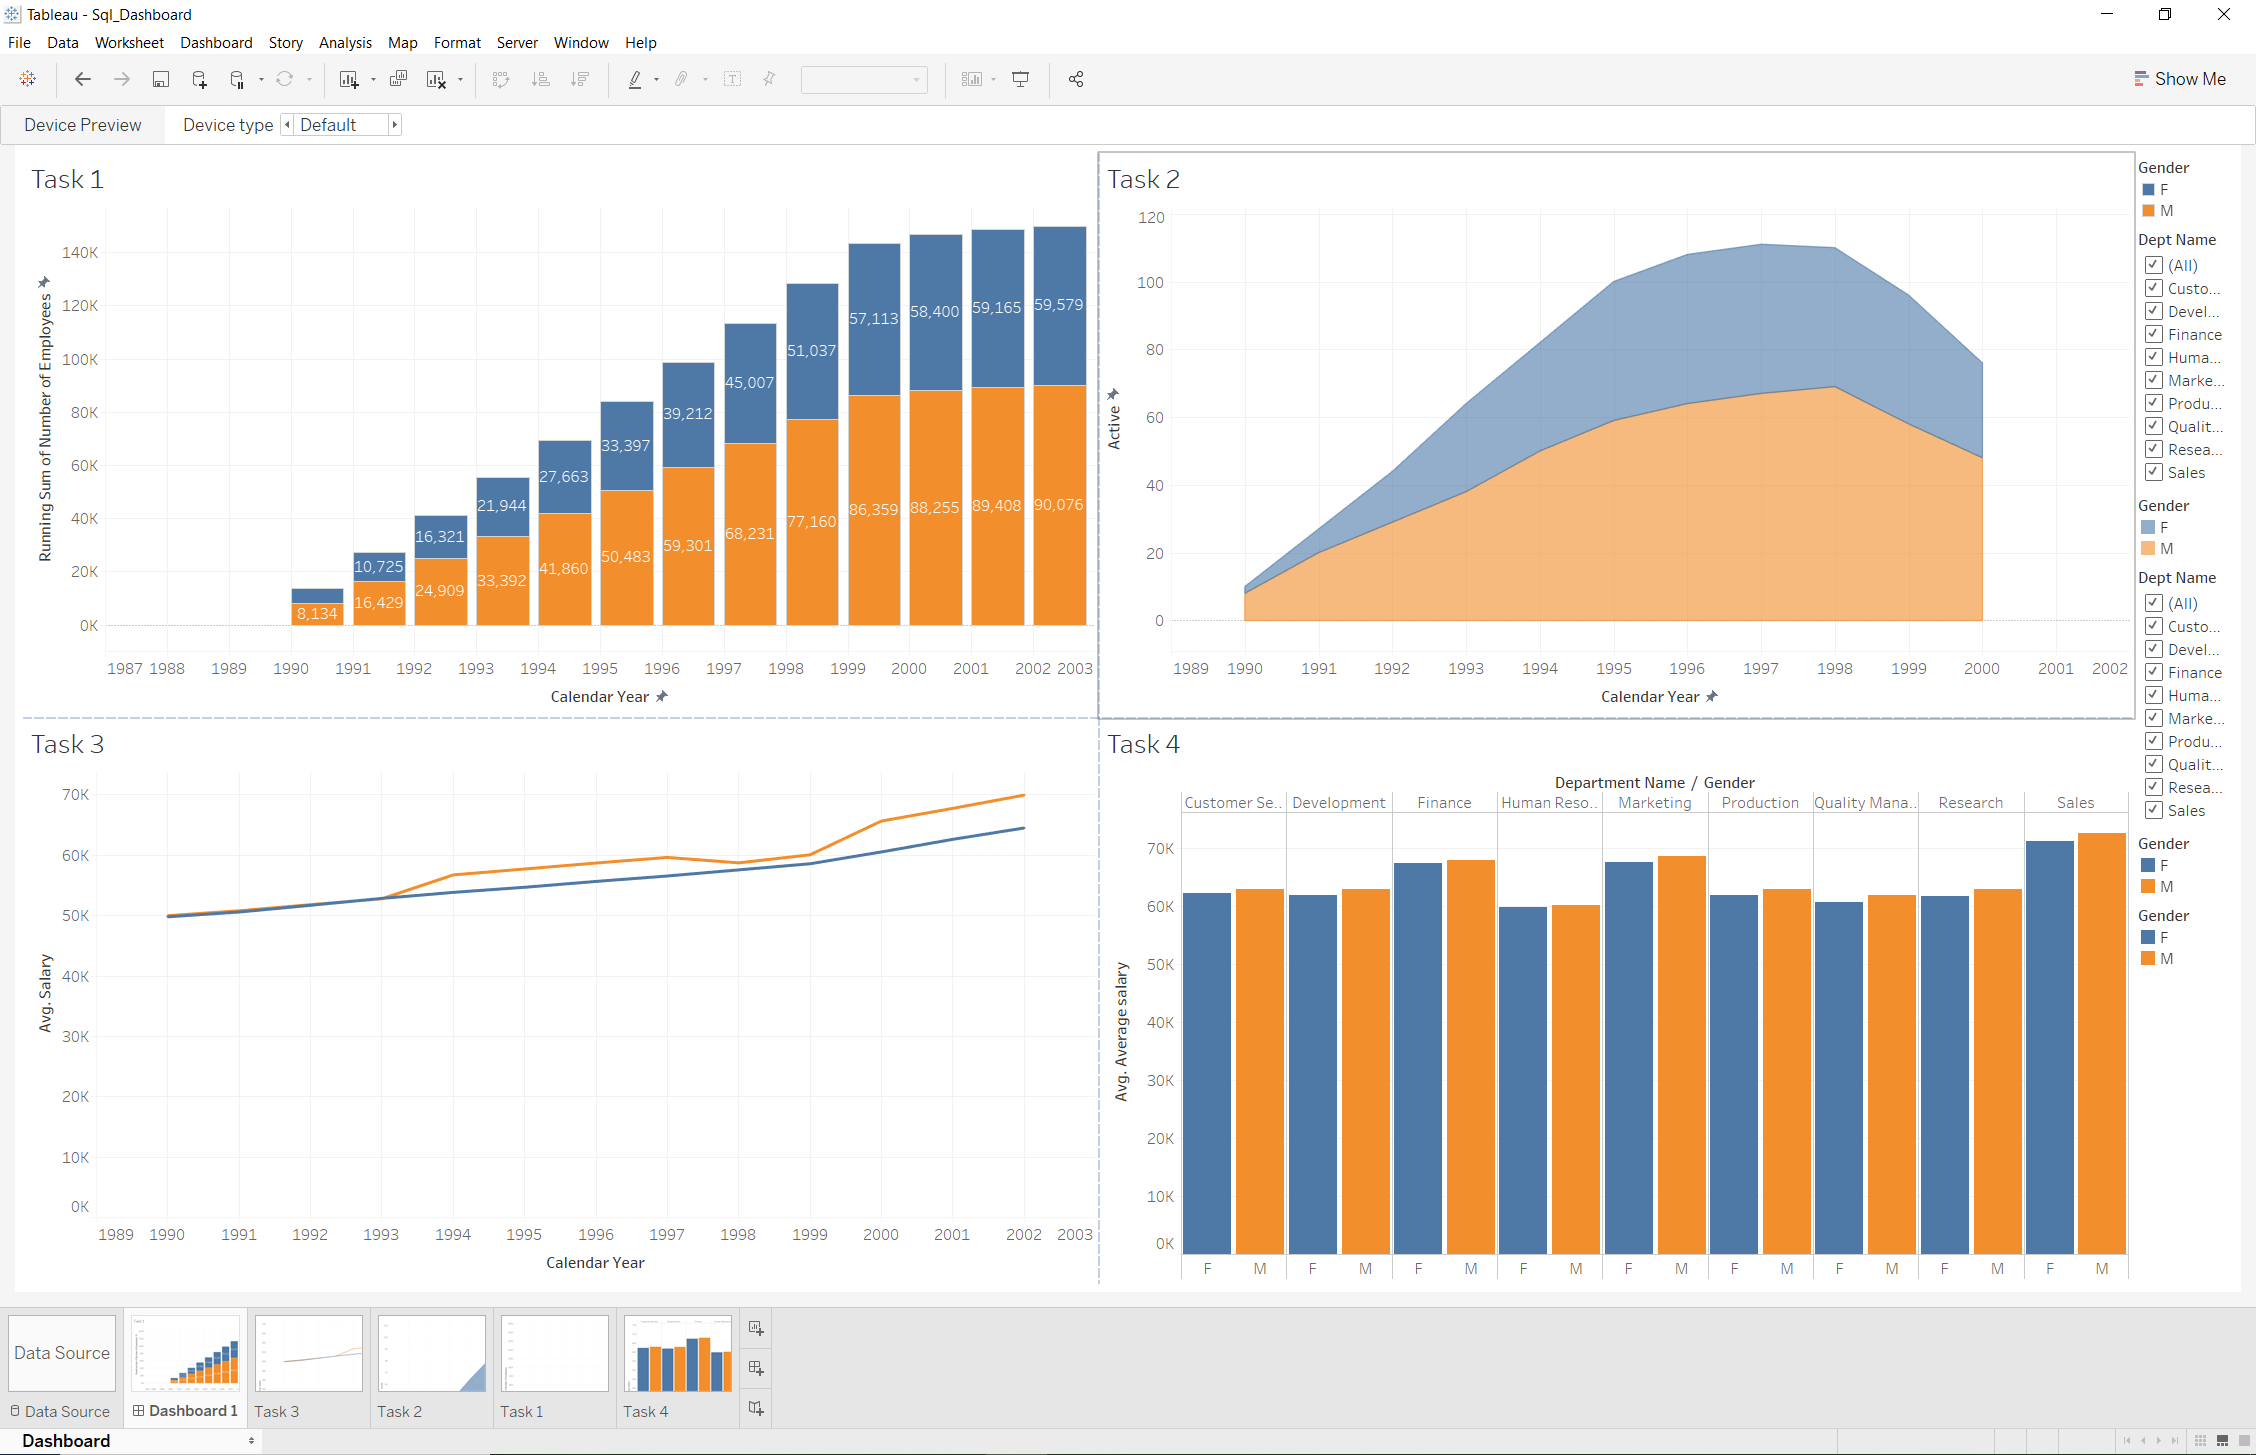

The dashboard page shown, as its layout file describes it:
{"tool":"tableau","page":{"name":"Dashboard 1","canvas":[1000,1000],"units":"permille","ordinal":0},"visuals":[{"type":"worksheet","title":"Task 1","mark":"Bar","rows":["Number_of_Employees"],"cols":["Calendar_Year"],"box":[3.6,7,483.4,493]},{"type":"worksheet","title":"Task 2","mark":"Area","rows":["active"],"cols":["calendar_year"],"box":[487,7,465,493]},{"type":"legend","title":"Task 1","param":"[federated.1gr5a9x0rfn9us18ssd3f1tu5ehm].[none:gender:nk]","box":[951.9,7,44.5,62.8]},{"type":"filter","title":"Task 2","param":"[federated.15bzp3b0rea4df1afde3c0ewmgfo].[none:dept_name:nk]","box":[951.9,69.7,44.5,231.9]},{"type":"legend","title":"Task 2","param":"[federated.15bzp3b0rea4df1afde3c0ewmgfo].[none:gender:nk]","box":[951.9,301.6,44.5,62.8]},{"type":"filter","title":"Task 3","param":"[federated.09x3zuj1ordu2k0zr6e7f16t11bk].[none:dept_name:nk]","box":[951.9,364.4,44.5,231.9]},{"type":"worksheet","title":"Task 3","mark":"Automatic","rows":["salary"],"cols":["calendar_year"],"box":[3.6,500,483.4,493]},{"type":"worksheet","title":"Task 4","mark":"Bar","rows":["Average_salary"],"cols":["Department_Name","gender"],"box":[487,500,465,493]},{"type":"legend","title":"Task 3","param":"[federated.09x3zuj1ordu2k0zr6e7f16t11bk].[none:gender:nk]","box":[951.9,596.3,44.5,62.8]},{"type":"legend","title":"Task 4","param":"[federated.13ibxgw16nz0ym1c2i0ec1w3uzd9].[none:gender:nk]","box":[951.9,659.1,44.5,62.8]}]}

Visuals, with their boxes on the dashboard's canvas, which has no fixed pixel size, in thousandths of its width and height (x1, y1, x2, y2). These are canvas units, not pixel positions in the 2256x1455 screenshot, which may show the page scaled, cropped or inside an application window:
"Task 1" worksheet (Bar marks): rect(4, 7, 487, 500)
"Task 2" worksheet (Area marks): rect(487, 7, 952, 500)
"Task 1" legend: rect(952, 7, 996, 70)
"Task 2" filter: rect(952, 70, 996, 302)
"Task 2" legend: rect(952, 302, 996, 364)
"Task 3" filter: rect(952, 364, 996, 596)
"Task 3" worksheet: rect(4, 500, 487, 993)
"Task 4" worksheet (Bar marks): rect(487, 500, 952, 993)
"Task 3" legend: rect(952, 596, 996, 659)
"Task 4" legend: rect(952, 659, 996, 722)
